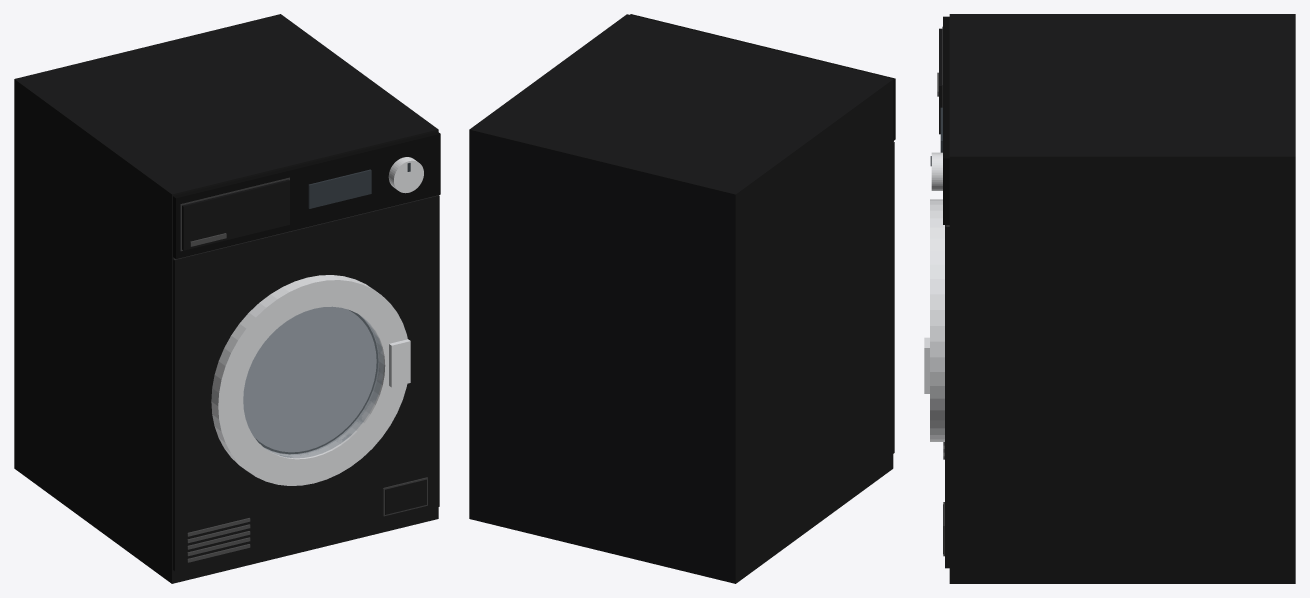
File: trockner-schwarz.glb
3 renders of one model, left to right at view 1: azimuth 30°, elevation 25°; view 2: azimuth 150°, elevation 25°; view 3: azimuth 270°, elevation 25°, orthographic. The views are drawn at different scales.
Parts seen in each view (by area): view 1: Gehäuse, Chrom, Glas, Trommel, Bedienblende, Graphit, Display, Fuge; view 2: Gehäuse, Bedienblende; view 3: Gehäuse, Chrom, Bedienblende.
Boxes of the visible parts, x1,y1,x2,y2 form: Gehäuse: [14, 14, 439, 583]; Chrom: [211, 157, 423, 485]; Glas: [243, 306, 383, 457]; Trommel: [243, 307, 376, 451]; Bedienblende: [173, 131, 440, 258]; Graphit: [187, 233, 250, 562]; Display: [308, 163, 410, 208]; Fuge: [173, 177, 438, 516]; Gehäuse: [469, 14, 894, 583]; Bedienblende: [630, 14, 895, 140]; Gehäuse: [939, 14, 1295, 583]; Chrom: [924, 152, 944, 441]; Bedienblende: [943, 16, 949, 224].
Bounding box in the file's own units: 0.6 × 0.85 × 0.66.
